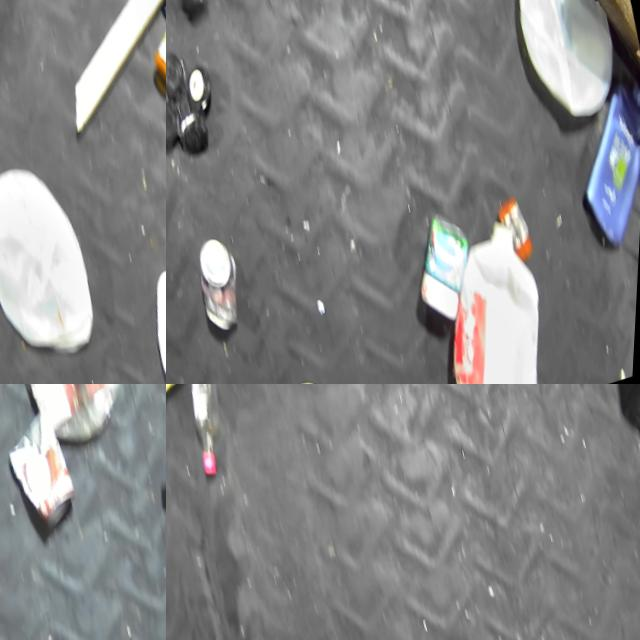can: (0, 411, 89, 544), (191, 233, 256, 341)
milk_jug: (422, 216, 575, 384), (0, 154, 110, 378), (493, 0, 634, 141)
non_white_jug: (562, 86, 640, 263)
plastic_bottle: (177, 384, 242, 480)
